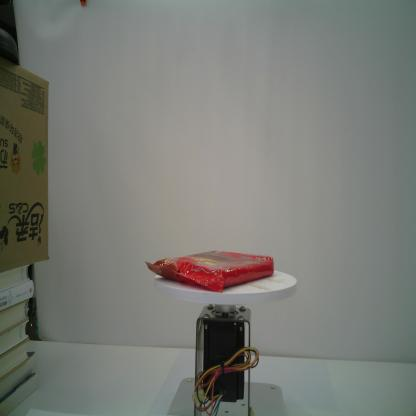Dessert: (144, 250, 275, 293)
